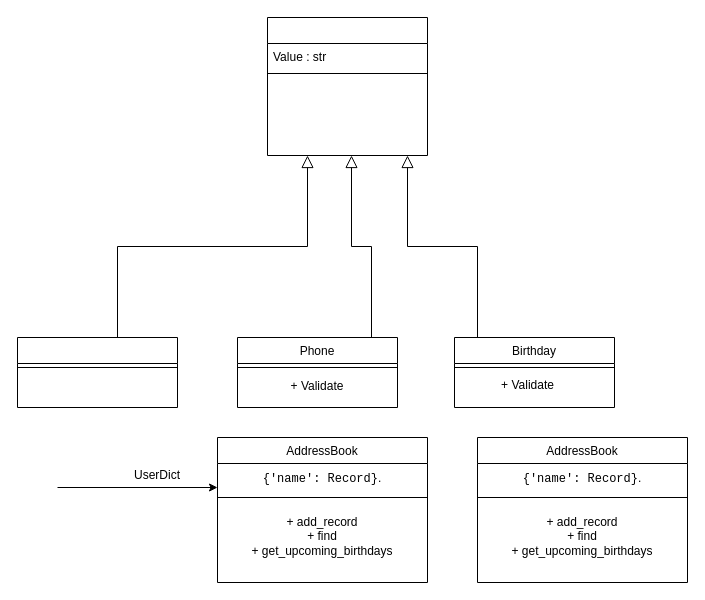
The diagram is 705 pixels wide and 600 high, and some of its shapes have lost their labels. The shapes that lost their labels are listed below. From the top down, each one's box as (x1, y1, x2, y2) in pixels, then its label:
(266, 16, 428, 156): Field
(16, 336, 178, 408): Name
